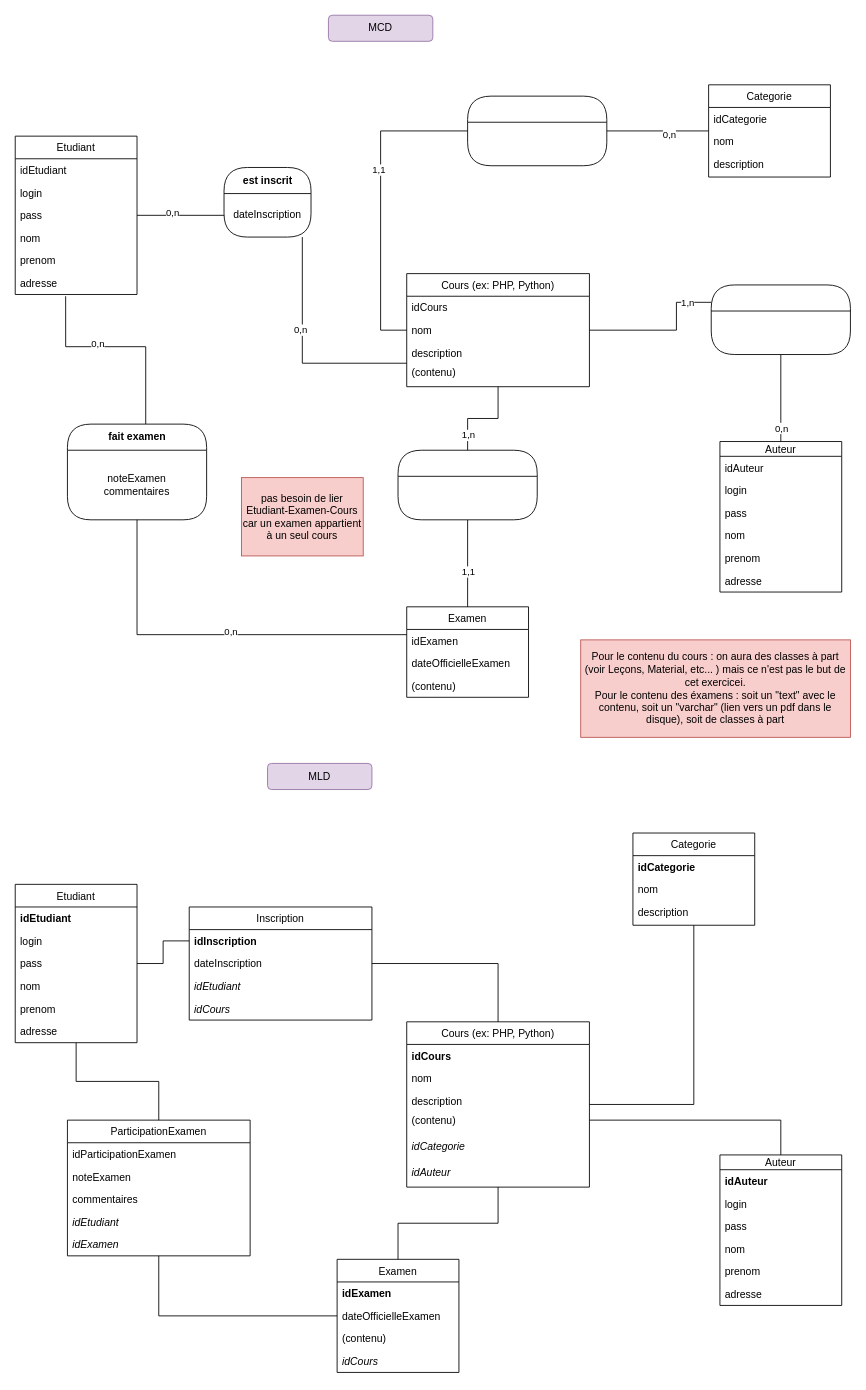
This 866x1390 diagram has some shape labels left out. Here are the shapes that lost their labels. From the top down, the centre of each, then its label:
At (537,130): "appartient".
At (780,319): "est crée".
At (467,484): "contient".
